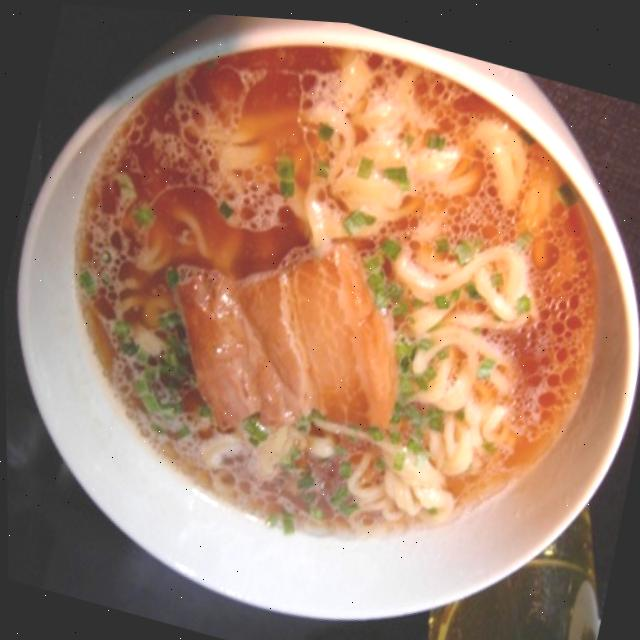面条主食: (9, 0, 635, 625)
